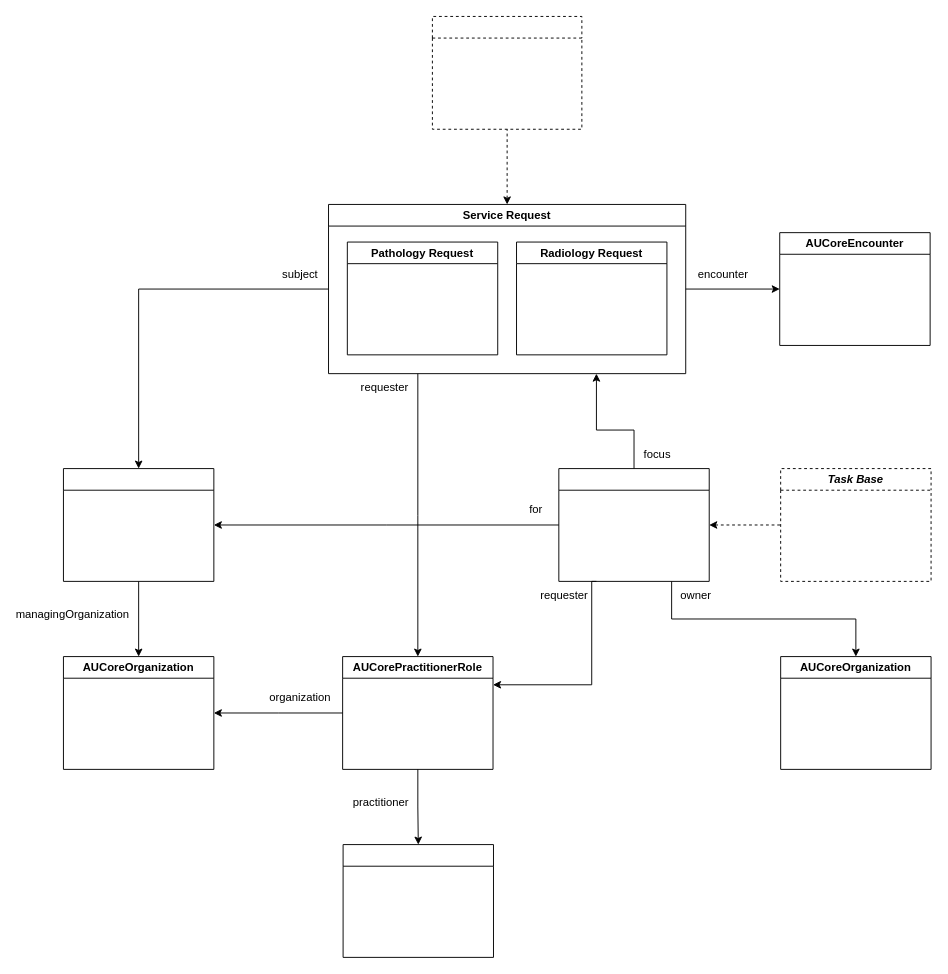
Some shapes in this 948 by 974 pixel diagram are drawn without their labels. The shapes that lost their labels are listed below. From the top down, each one's centre as x and y in pixels, then its label:
point 506,72: Base Request
point 138,524: AUCorePatient
point 633,524: Request Task
point 418,900: AUCorePractitioner
